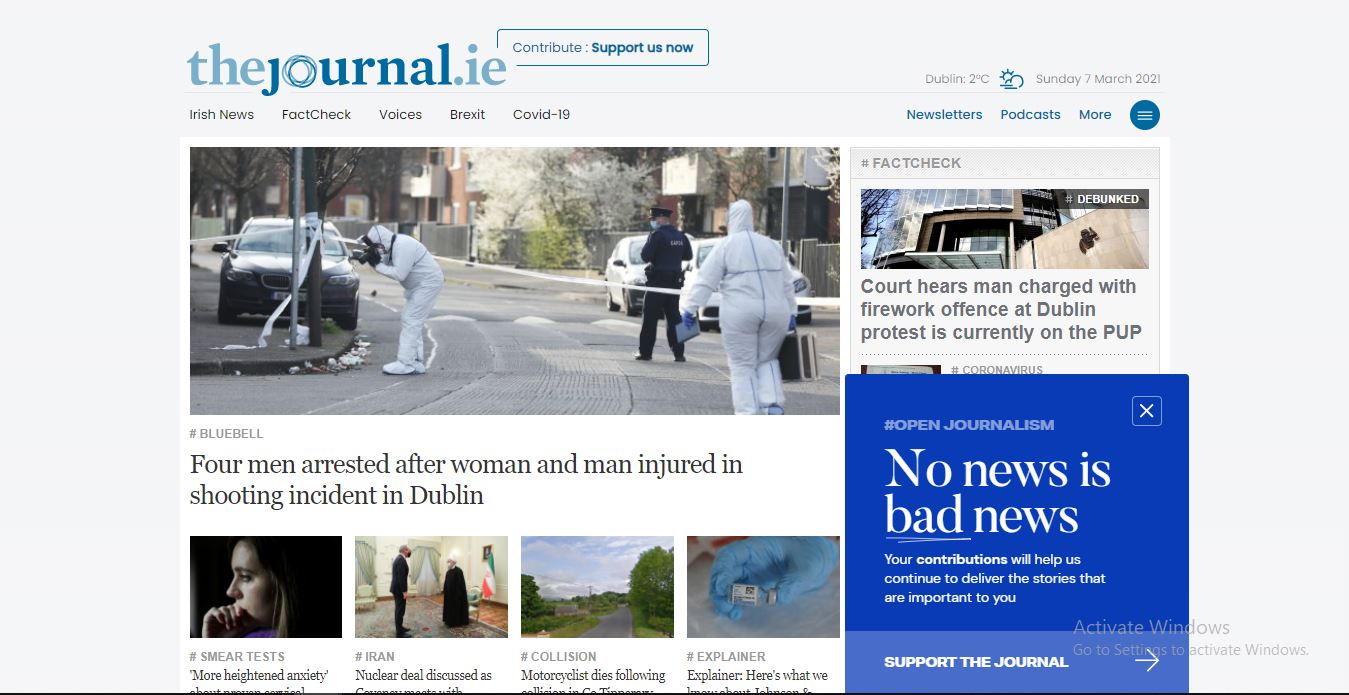Image: (187, 151, 841, 417), (173, 17, 715, 92), (356, 534, 509, 636), (193, 537, 344, 638), (688, 538, 839, 638), (524, 538, 670, 635)
Menu Bar: (179, 97, 578, 131), (888, 89, 1171, 133)
Side Bar: (852, 141, 1191, 695)
